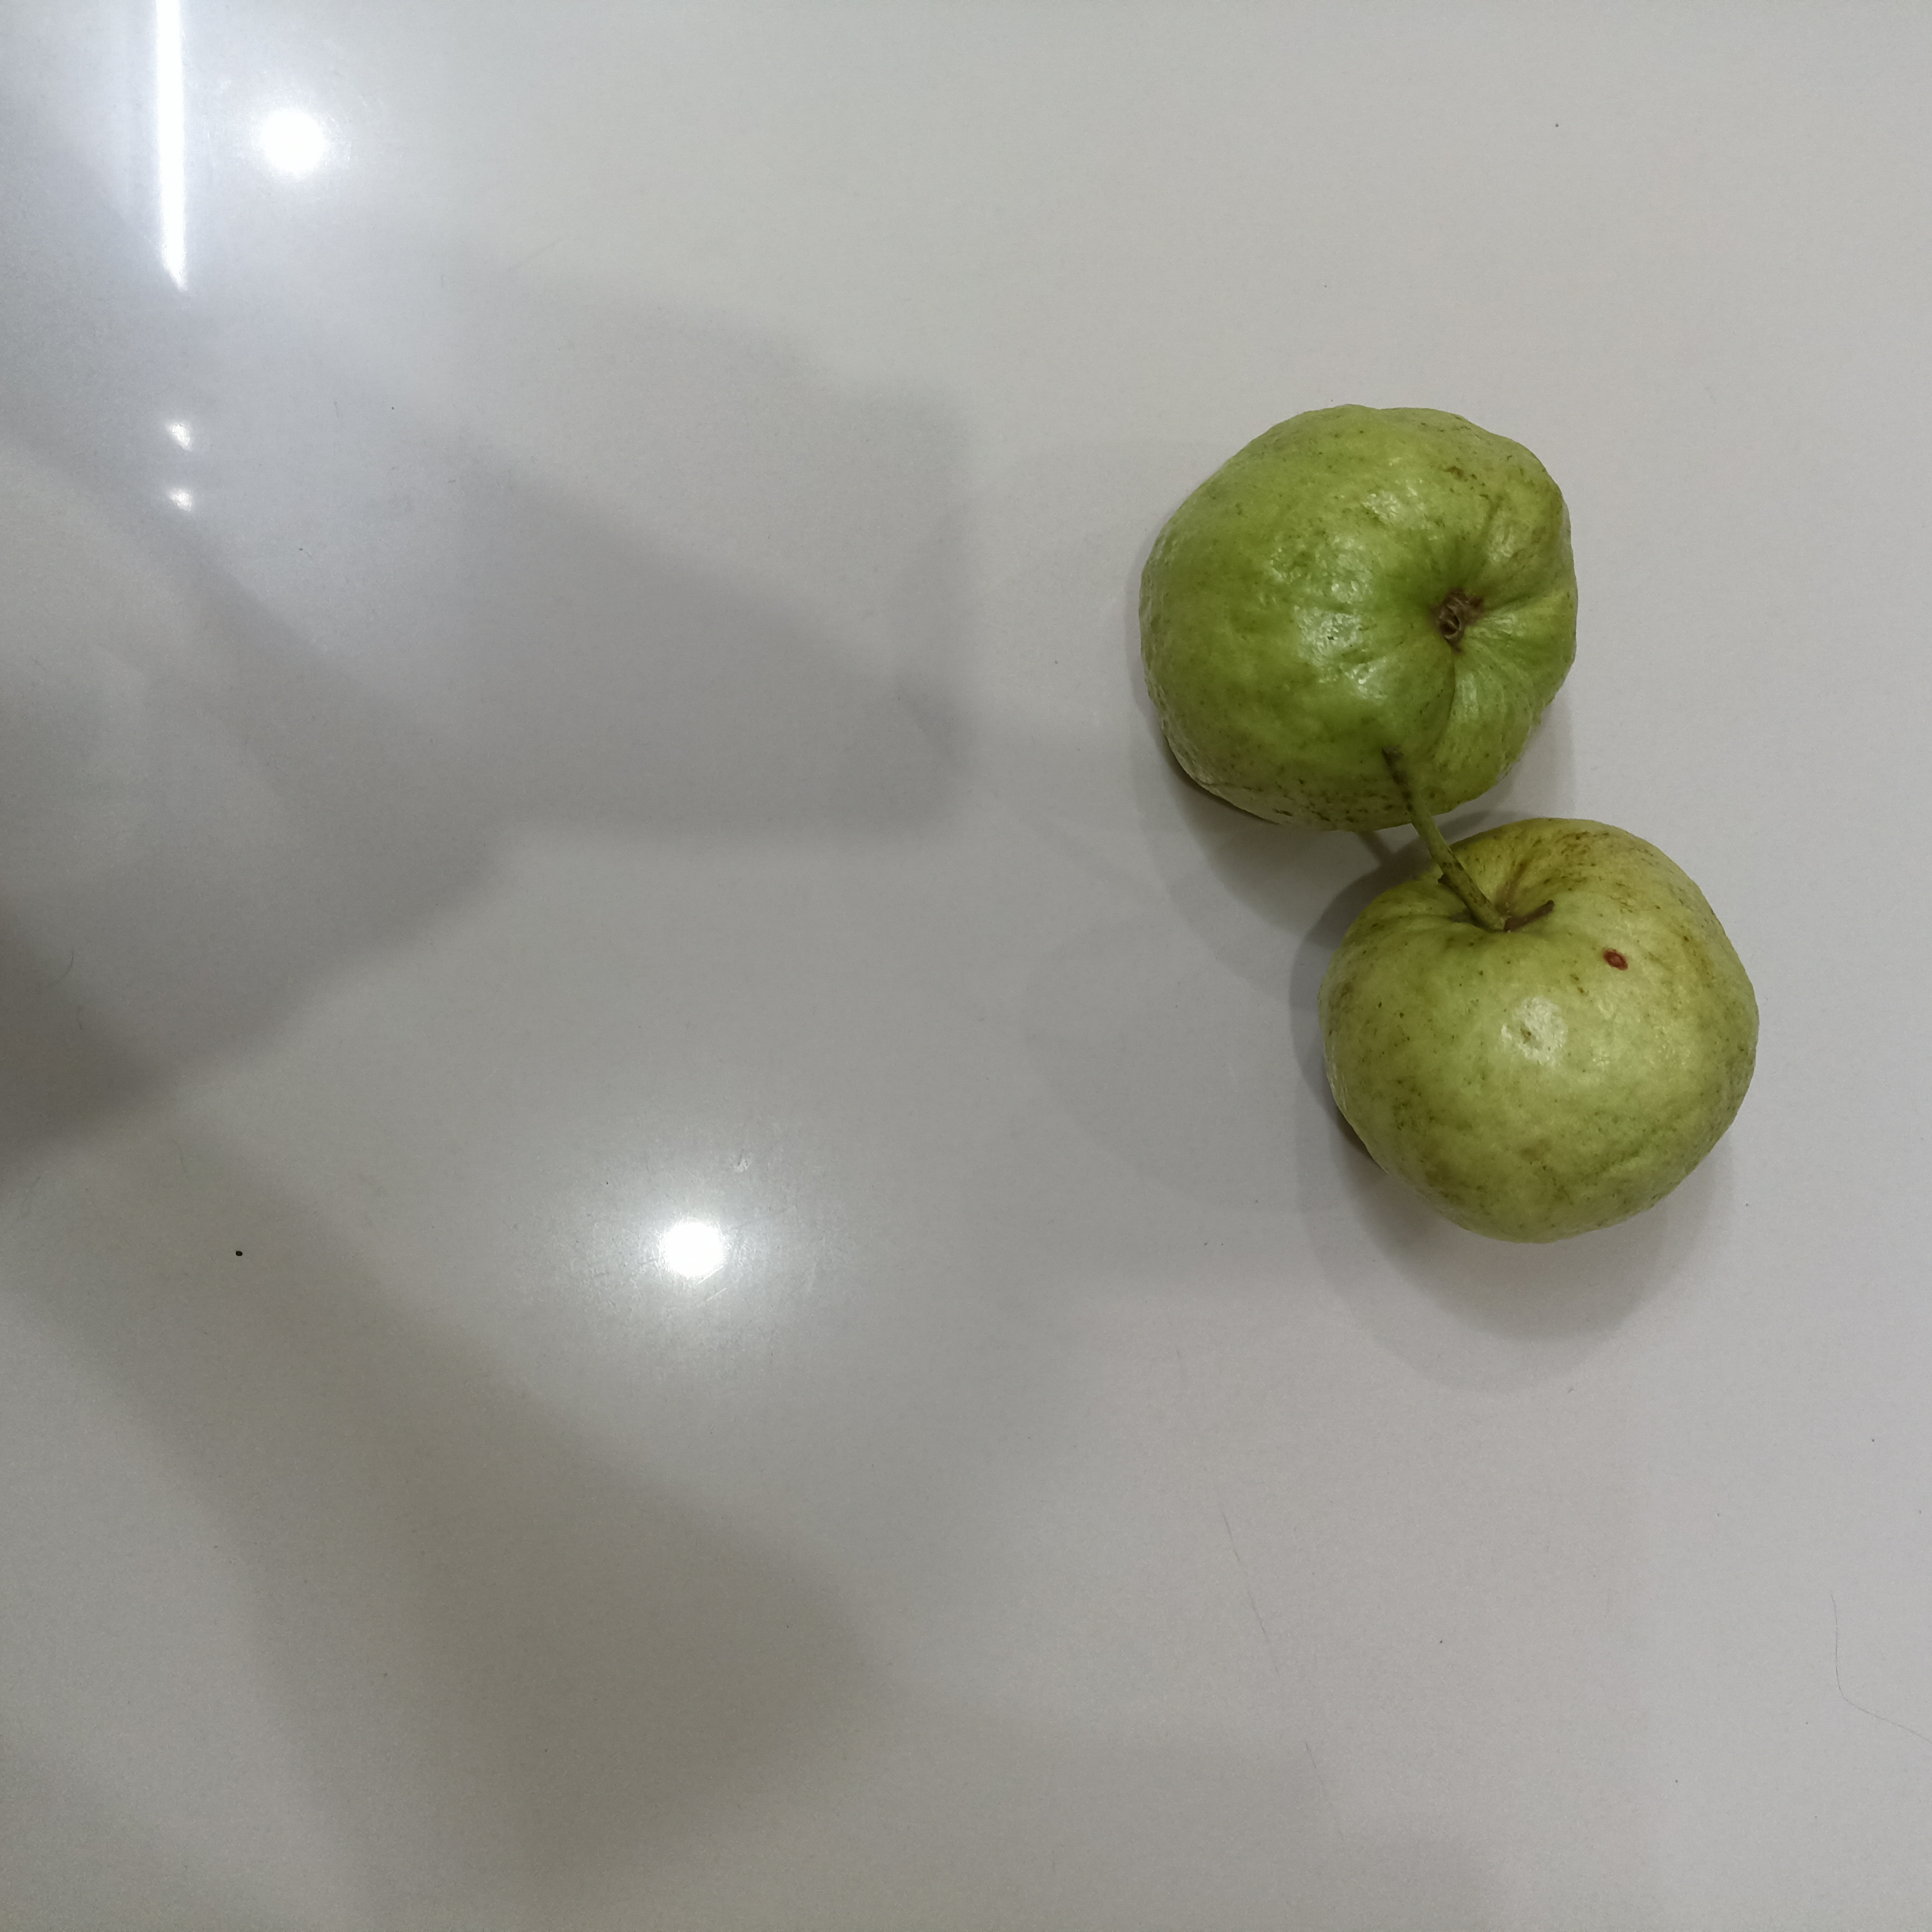Oi: (1138, 398, 1582, 839), (1318, 816, 1764, 1251)
